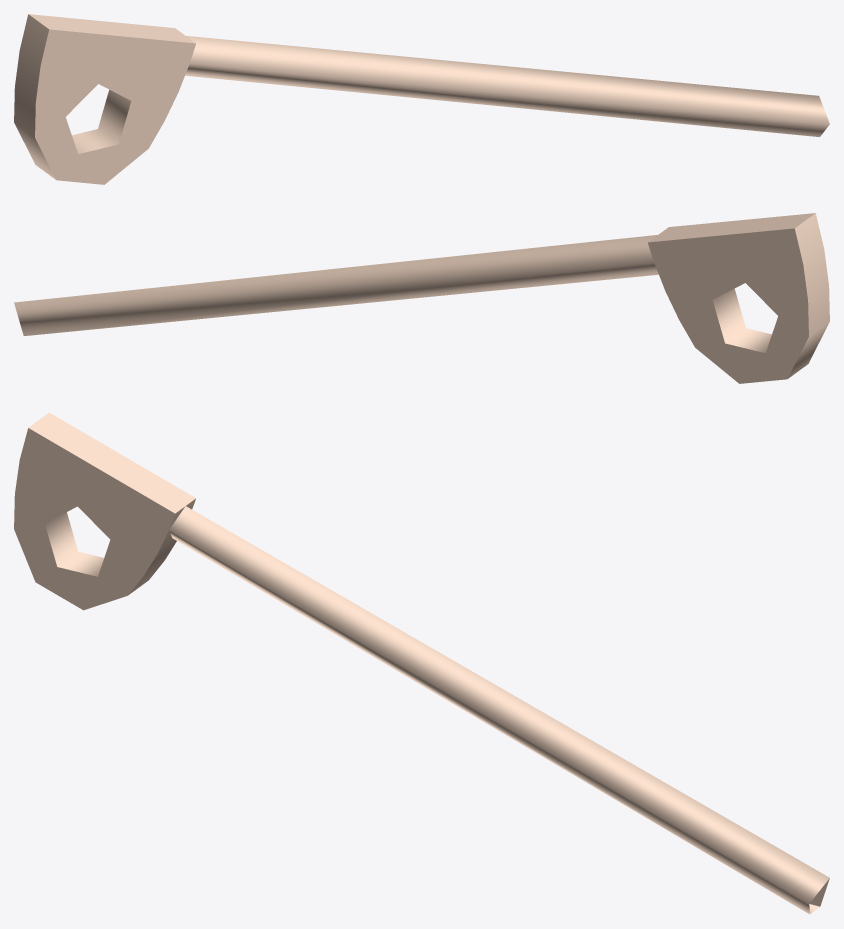
File: Tige sonnerie a la demande_Heures.obj
3 renders of one model, top to bottom at view 1: azimuth 30°, elevation 25°; view 2: azimuth 150°, elevation 25°; view 3: azimuth 330°, elevation 25°, orthographic.
Visible parts, largest first — view 1: Face_10, Face_4, Face_7, Face_8, Face_9, Face_6; view 2: Face_10, Face_3, Face_7, Face_8, Face_9, Face_6; view 3: Face_10, Face_4, Face_8, Face_9.
Boxes of the visible parts, <box> form: Face_10: <box>185,36,829,137</box>; Face_4: <box>35,29,195,184</box>; Face_7: <box>14,14,48,137</box>; Face_8: <box>28,14,195,43</box>; Face_9: <box>72,89,131,154</box>; Face_6: <box>14,122,55,179</box>; Face_10: <box>14,235,658,335</box>; Face_3: <box>648,228,808,383</box>; Face_7: <box>795,213,829,336</box>; Face_8: <box>648,213,815,242</box>; Face_9: <box>712,288,771,353</box>; Face_6: <box>788,322,829,378</box>; Face_10: <box>169,506,829,914</box>; Face_4: <box>14,428,174,610</box>; Face_8: <box>28,412,195,513</box>; Face_9: <box>45,512,103,576</box>.
Bounding box in the file's own units: 0.044 × 0.0158 × 0.002.
